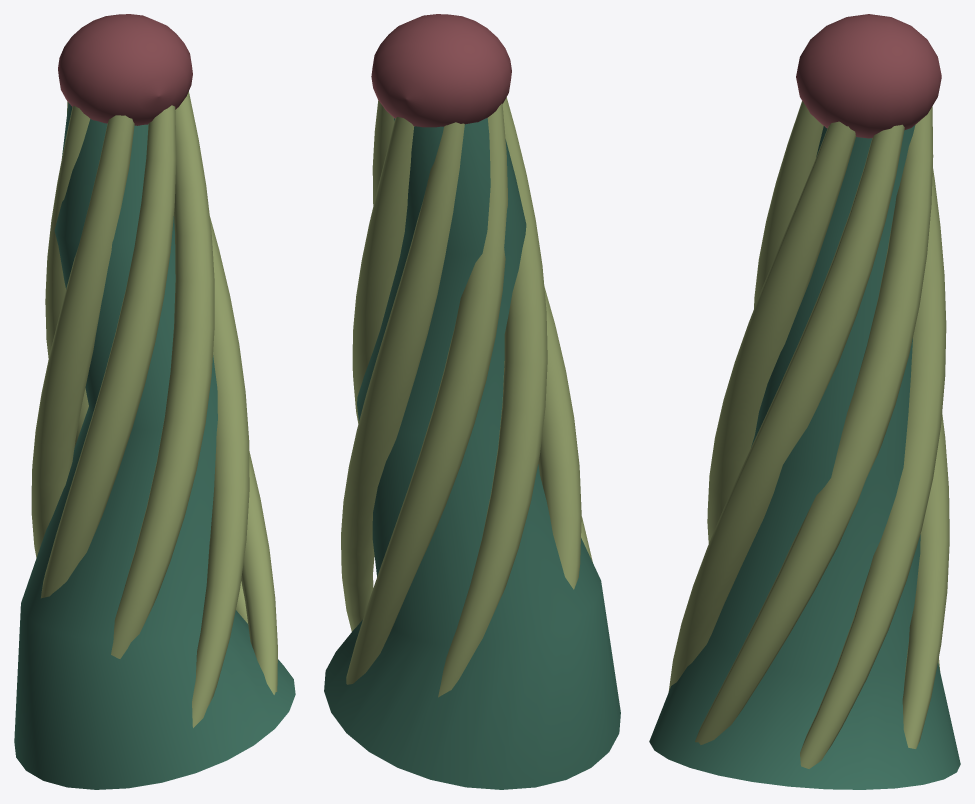
The model's file is sensory_stalk.glb.
3 views of the same model, side by side, from view 1: azimuth 30°, elevation 25°; view 2: azimuth 150°, elevation 25°; view 3: azimuth 270°, elevation 25° (orthographic). The views are drawn at different scales.
Parts seen in each view (by area): view 1: sensory_stalk; view 2: sensory_stalk; view 3: sensory_stalk.
Boxes of the visible parts, x1,y1,x2,y2 form: sensory_stalk: (14, 14, 295, 789); sensory_stalk: (324, 14, 620, 789); sensory_stalk: (649, 14, 960, 789).
Bounding box in the file's own units: 3.42 × 9.47 × 3.51.
